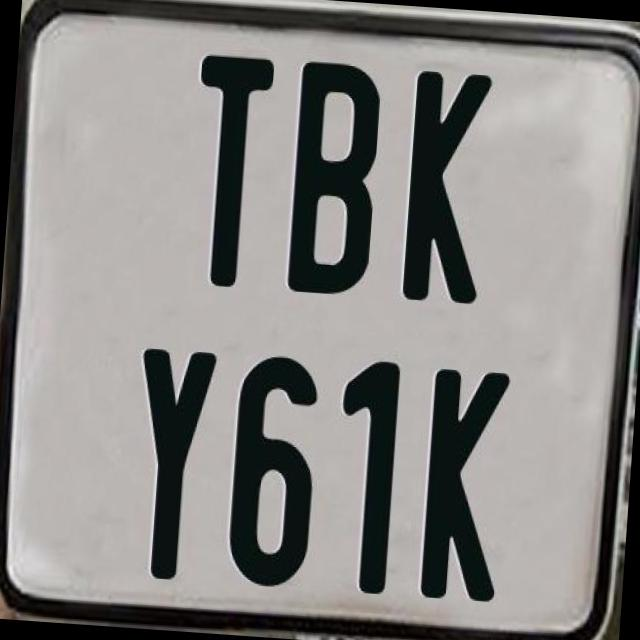1: (326, 355, 406, 601)
6: (222, 352, 320, 588)
B: (283, 59, 386, 298)
K: (416, 364, 510, 598), (400, 68, 492, 304)
T: (183, 54, 277, 294)
Y: (126, 348, 222, 586)
